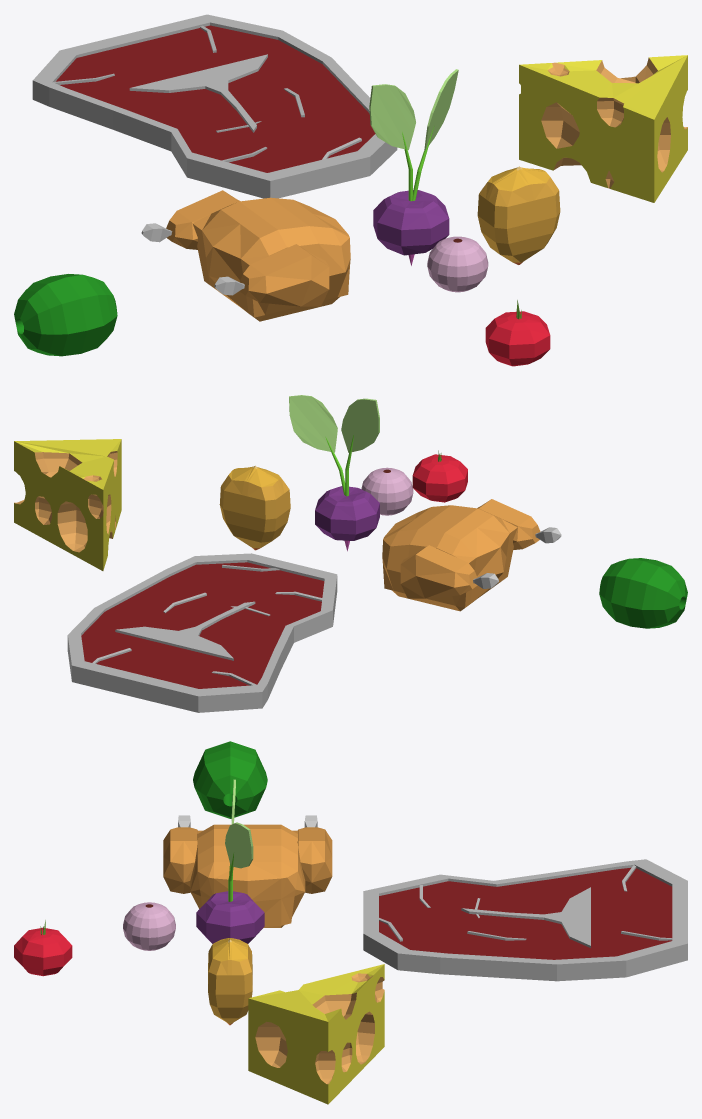
Rendered from ingredientes.fbx.
3 renders of one model, top to bottom at view 1: azimuth 30°, elevation 25°; view 2: azimuth 150°, elevation 25°; view 3: azimuth 270°, elevation 25°, orthographic. The views are drawn at different scales.
Parts seen in each view (by area): view 1: Ternera, Queso, Pollo, Remolacha, Oliva, Maiz, Esfera, Cebolla; view 2: Ternera, Pollo, Queso, Remolacha, Oliva, Maiz, Esfera, Cebolla; view 3: Ternera, Queso, Pollo, Oliva, Remolacha, Maiz, Esfera, Cebolla.
Part boxes in pixels (<box>): Ternera: <box>32,14,397,198</box>; Queso: <box>519,55,687,202</box>; Pollo: <box>141,190,350,321</box>; Remolacha: <box>369,69,458,265</box>; Oliva: <box>14,274,117,356</box>; Maiz: <box>477,166,560,264</box>; Esfera: <box>485,300,550,366</box>; Cebolla: <box>427,236,488,292</box>; Ternera: <box>67,553,337,712</box>; Pollo: <box>382,499,561,611</box>; Queso: <box>14,439,121,570</box>; Remolacha: <box>289,395,379,551</box>; Oliva: <box>599,558,687,628</box>; Maiz: <box>219,465,290,550</box>; Esfera: <box>412,450,467,502</box>; Cebolla: <box>361,467,413,515</box>; Ternera: <box>363,859,687,981</box>; Queso: <box>248,964,384,1104</box>; Pollo: <box>163,815,332,927</box>; Oliva: <box>193,741,267,818</box>; Remolacha: <box>196,779,264,943</box>; Maiz: <box>208,938,252,1025</box>; Esfera: <box>14,920,72,976</box>; Cebolla: <box>123,902,175,950</box>.
Size of the model in its own units: 5354 by 1497 by 4955.
